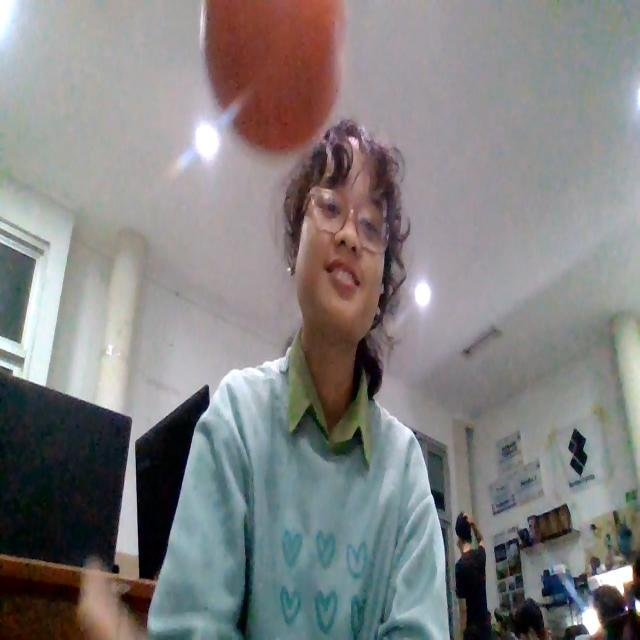ball: (205, 0, 340, 151)
